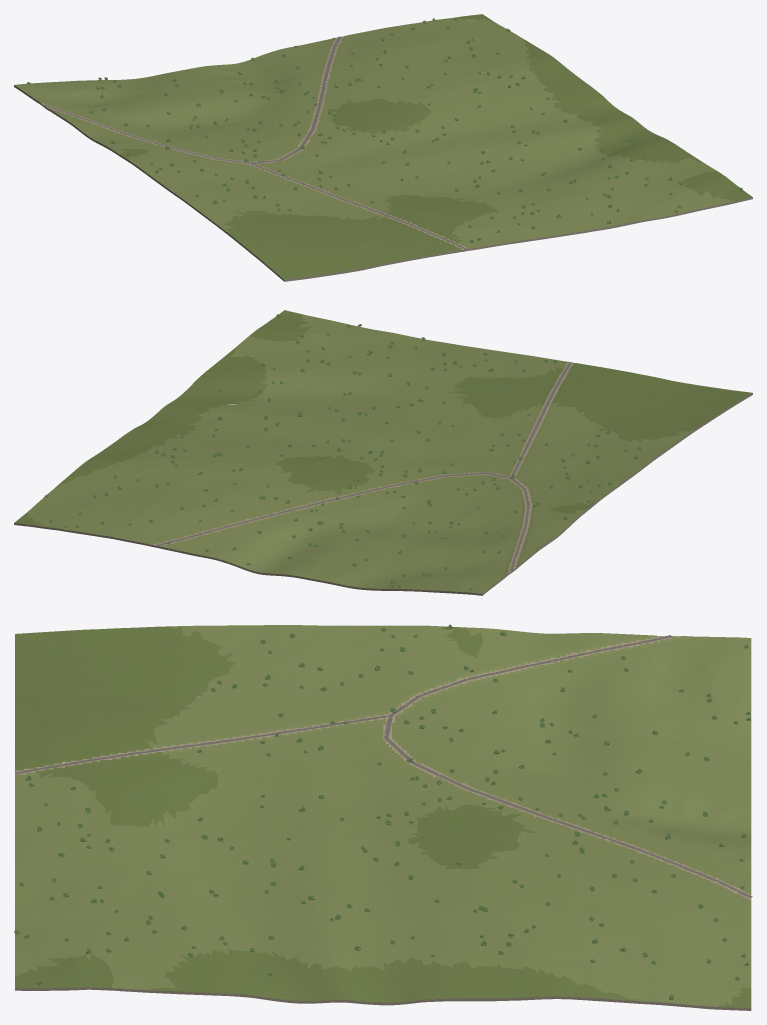
File: parca_+11_-4-yakin.glb
3 views of the same model, one above another, from view 1: azimuth 30°, elevation 25°; view 2: azimuth 150°, elevation 25°; view 3: azimuth 270°, elevation 25° (orthographic). The views are drawn at different scales.
Visible parts, largest first — view 1: parca_+11_-4_arazi, parca_+11_-4_bitkiler, parca_+11_-4_yollar; view 2: parca_+11_-4_arazi, parca_+11_-4_bitkiler, parca_+11_-4_yollar; view 3: parca_+11_-4_arazi, parca_+11_-4_bitkiler, parca_+11_-4_yollar.
Boxes of the visible parts, x1,y1,x2,y2 form: parca_+11_-4_arazi: (14,14,752,281); parca_+11_-4_bitkiler: (27,18,742,260); parca_+11_-4_yollar: (42,36,466,249); parca_+11_-4_arazi: (14,310,752,595); parca_+11_-4_bitkiler: (44,314,672,590); parca_+11_-4_yollar: (156,362,572,570); parca_+11_-4_arazi: (15,625,751,1010); parca_+11_-4_bitkiler: (14,624,750,999); parca_+11_-4_yollar: (15,635,752,897).
Size of the model in its own units: 1003 by 117 by 1004.
